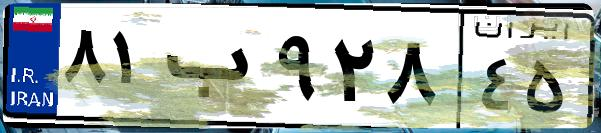1: (110, 28, 158, 98)
2: (330, 28, 385, 110)
4: (475, 38, 525, 113)
5: (525, 38, 570, 115)
8: (385, 28, 445, 110), (57, 26, 110, 100)
9: (270, 28, 330, 110)
ب: (158, 20, 270, 120)
